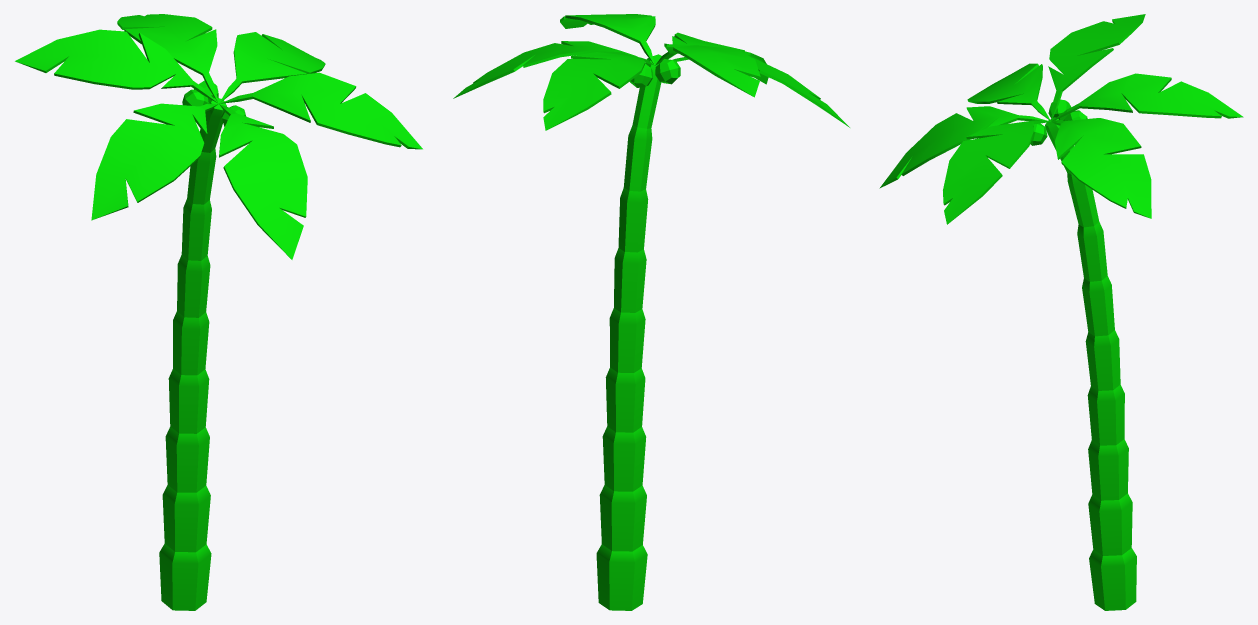
The model's file is palm_tree_1.fbx.
3 views of the same model, side by side, from view 1: azimuth 30°, elevation 25°; view 2: azimuth 150°, elevation 25°; view 3: azimuth 270°, elevation 25° (orthographic). The views are drawn at different scales.
Visible parts, largest first — view 1: palm_tree_1; view 2: palm_tree_1; view 3: palm_tree_1.
Boxes of the visible parts, <box> form: palm_tree_1: <box>15,14,422,610</box>; palm_tree_1: <box>453,14,849,610</box>; palm_tree_1: <box>879,14,1243,610</box>.
Size of the model in its own units: 8.88 by 15.73 by 9.66.
